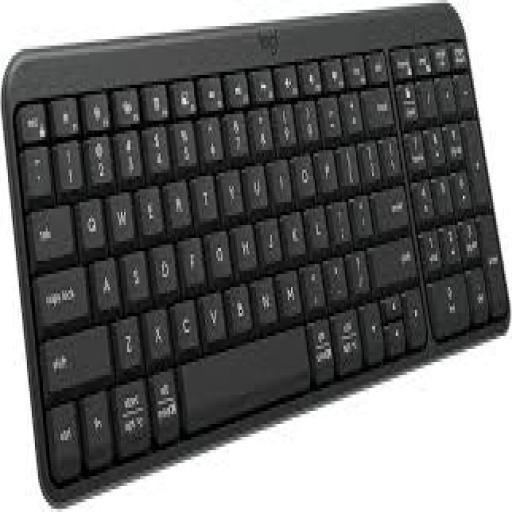keyboard: (2, 3, 510, 502)
